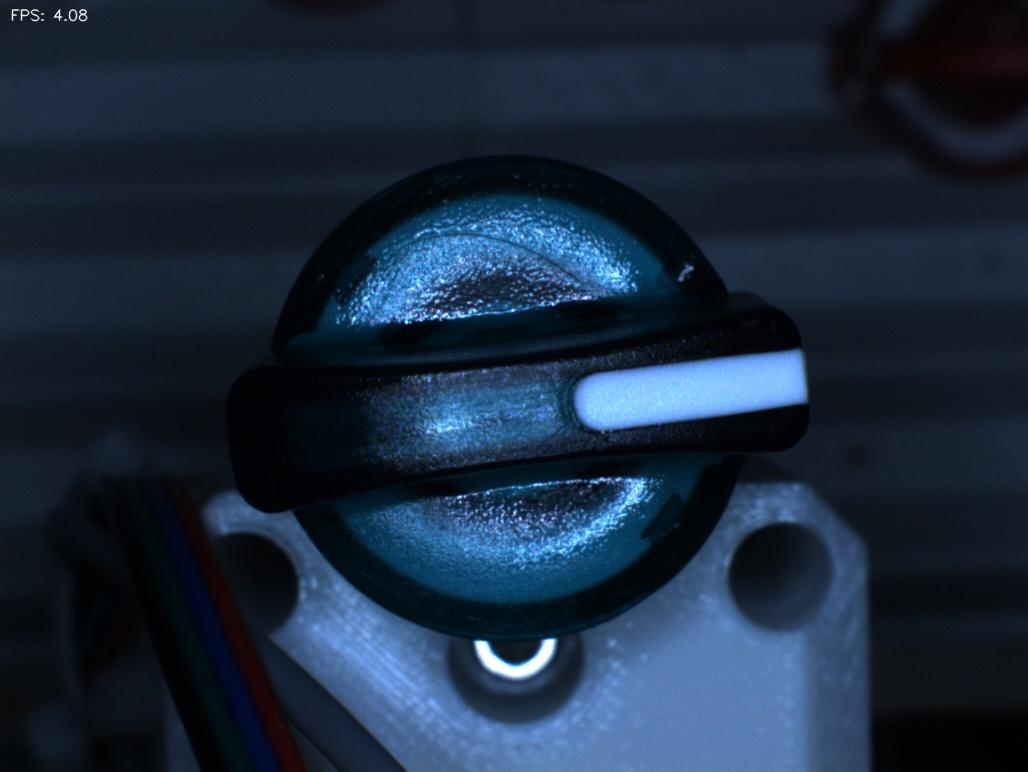Choc: (638, 219, 721, 308)
